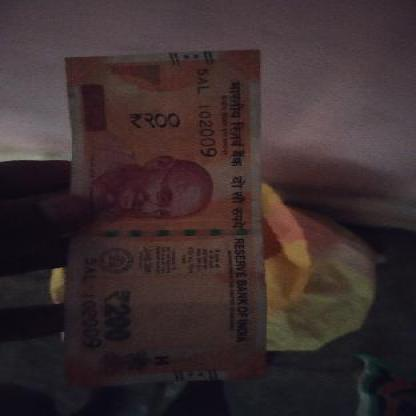New200Front: (61, 58, 263, 379)
